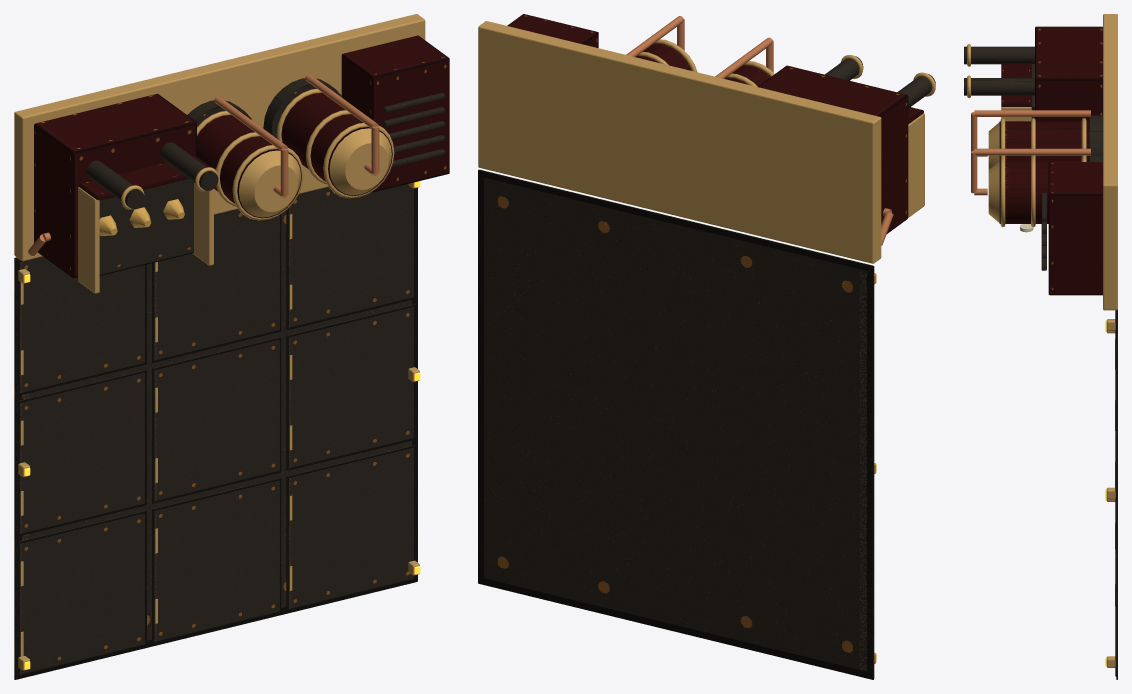
Rendered from refinery-high.glb.
3 views of the same model, side by side, from view 1: azimuth 30°, elevation 25°; view 2: azimuth 150°, elevation 25°; view 3: azimuth 270°, elevation 25° (orthographic). The views are drawn at different scales.
Visible parts, largest first — view 1: refinery-root / Riveted iron, refinery-root / Burgundy enamel, refinery-root / Machined brass, refinery-root / Ore gold / optics, refinery-root / Copper feed lines; view 2: refinery-root / Riveted iron, refinery-root / Machined brass, refinery-root / Burgundy enamel, refinery-root / Copper feed lines; view 3: refinery-root / Burgundy enamel, refinery-root / Machined brass, refinery-root / Riveted iron, refinery-root / Copper feed lines.
Part boxes in pixels (x1=…): refinery-root / Riveted iron: x1=14, y1=78, x2=445, y2=679; refinery-root / Burgundy enamel: x1=34, y1=35, x2=449, y2=278; refinery-root / Machined brass: x1=14, y1=14, x2=425, y2=670; refinery-root / Ore gold / optics: x1=20, y1=199, x2=292, y2=656; refinery-root / Copper feed lines: x1=28, y1=74, x2=379, y2=255; refinery-root / Riveted iron: x1=478, y1=56, x2=935, y2=679; refinery-root / Machined brass: x1=478, y1=21, x2=935, y2=663; refinery-root / Burgundy enamel: x1=507, y1=14, x2=923, y2=234; refinery-root / Copper feed lines: x1=626, y1=16, x2=893, y2=245; refinery-root / Burgundy enamel: x1=999, y1=26, x2=1102, y2=295; refinery-root / Machined brass: x1=967, y1=14, x2=1117, y2=667; refinery-root / Riveted iron: x1=964, y1=46, x2=1117, y2=679; refinery-root / Copper feed lines: x1=971, y1=110, x2=1090, y2=195.
Size of the model in its own units: 12 by 16.15 by 4.55.
8 materials, 2 textured.
